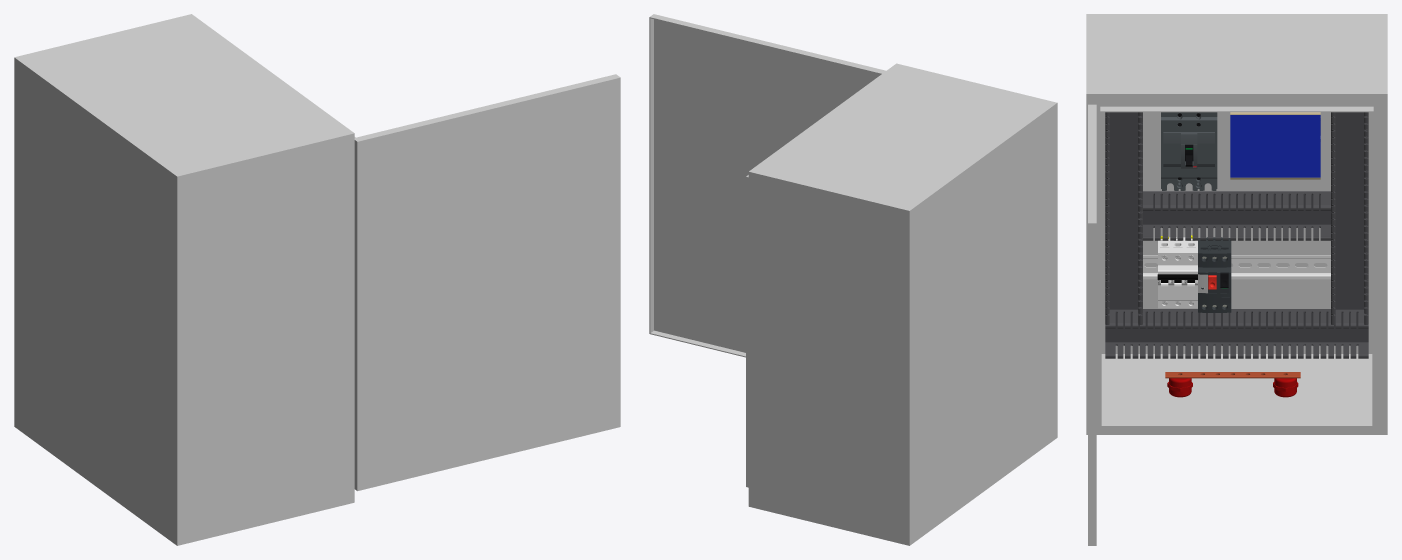
Rendered from modelo.glb.
3 views of the same model, side by side, from view 1: azimuth 30°, elevation 25°; view 2: azimuth 150°, elevation 25°; view 3: azimuth 270°, elevation 25° (orthographic). The views are drawn at different scales.
Visible parts, largest first — view 1: Solid1, Solid12, Solid2, Solid11, Solid10; view 2: Solid1, Solid12, Solid2, Solid11, Solid10; view 3: Solid1 (×14), Solid2, Solid3 (×2), Solid10, Solid13, Solid11.
Boxes of the visible parts, x1,y1,x2,y2 form: Solid1: [14, 14, 355, 545]; Solid12: [358, 79, 619, 489]; Solid2: [16, 15, 352, 177]; Solid11: [354, 74, 620, 491]; Solid10: [191, 14, 354, 502]; Solid1: [746, 63, 1057, 545]; Solid12: [654, 19, 880, 352]; Solid2: [750, 64, 1055, 211]; Solid11: [649, 14, 885, 357]; Solid10: [748, 63, 896, 506]; Solid1 (×14): [1086, 14, 1387, 426]; Solid2: [1086, 14, 1387, 93]; Solid3 (×2): [1101, 112, 1372, 420]; Solid10: [1086, 93, 1387, 434]; Solid13: [1143, 112, 1330, 308]; Solid11: [1088, 104, 1096, 545].
Bounding box in the file's own units: 0.6295 × 0.5 × 0.4.
25 materials, 1 textured.
